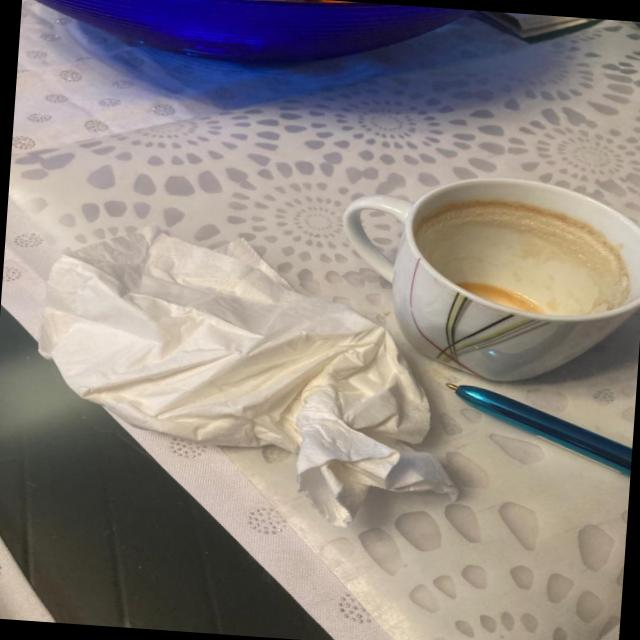organic waste: (20, 219, 479, 532)
